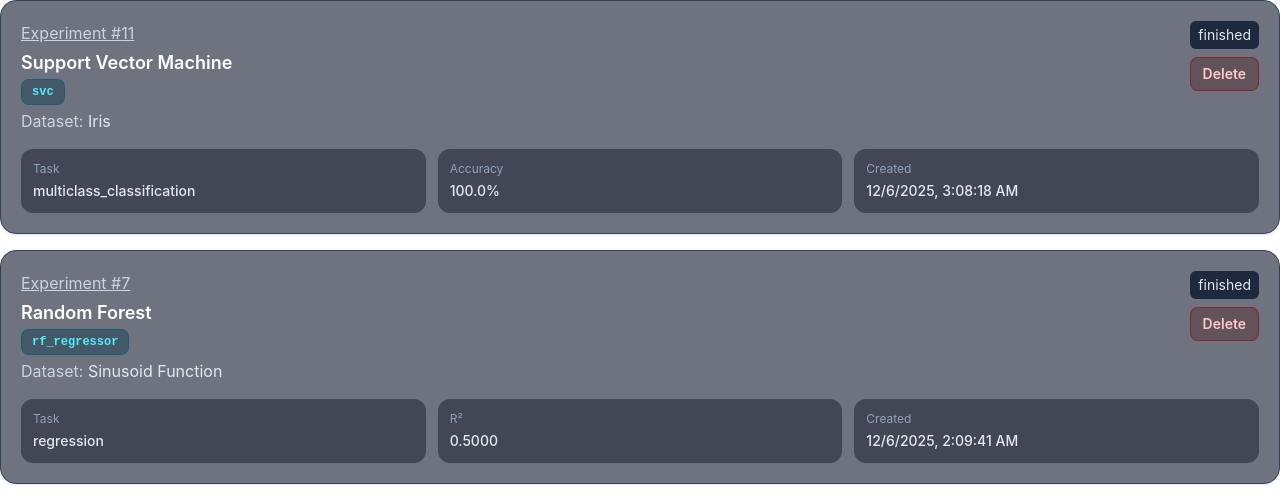
Test: ExperimentsList › deletes an experiment after confirmation and removes it from the list
The width and height of the screenshot is (1280, 502).
Expected: the link "Experiment #11" is shown, [21,23,134,43]
Expected: the link "Experiment #7" is shown, [21,273,130,293]
Click the button "Delete" in the row of "Support Vector Machine" at coordinates (1224, 74), box [1190,57,1259,91]
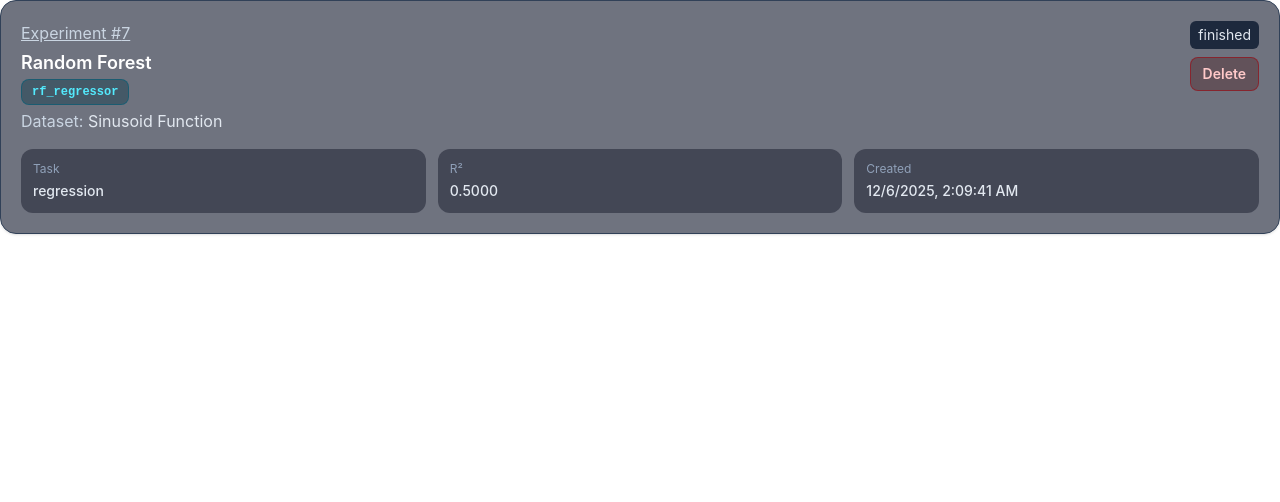
Expected: the link "Experiment #7" is shown, [21,23,130,43]
Expected: the link "Experiment #11" is gone
